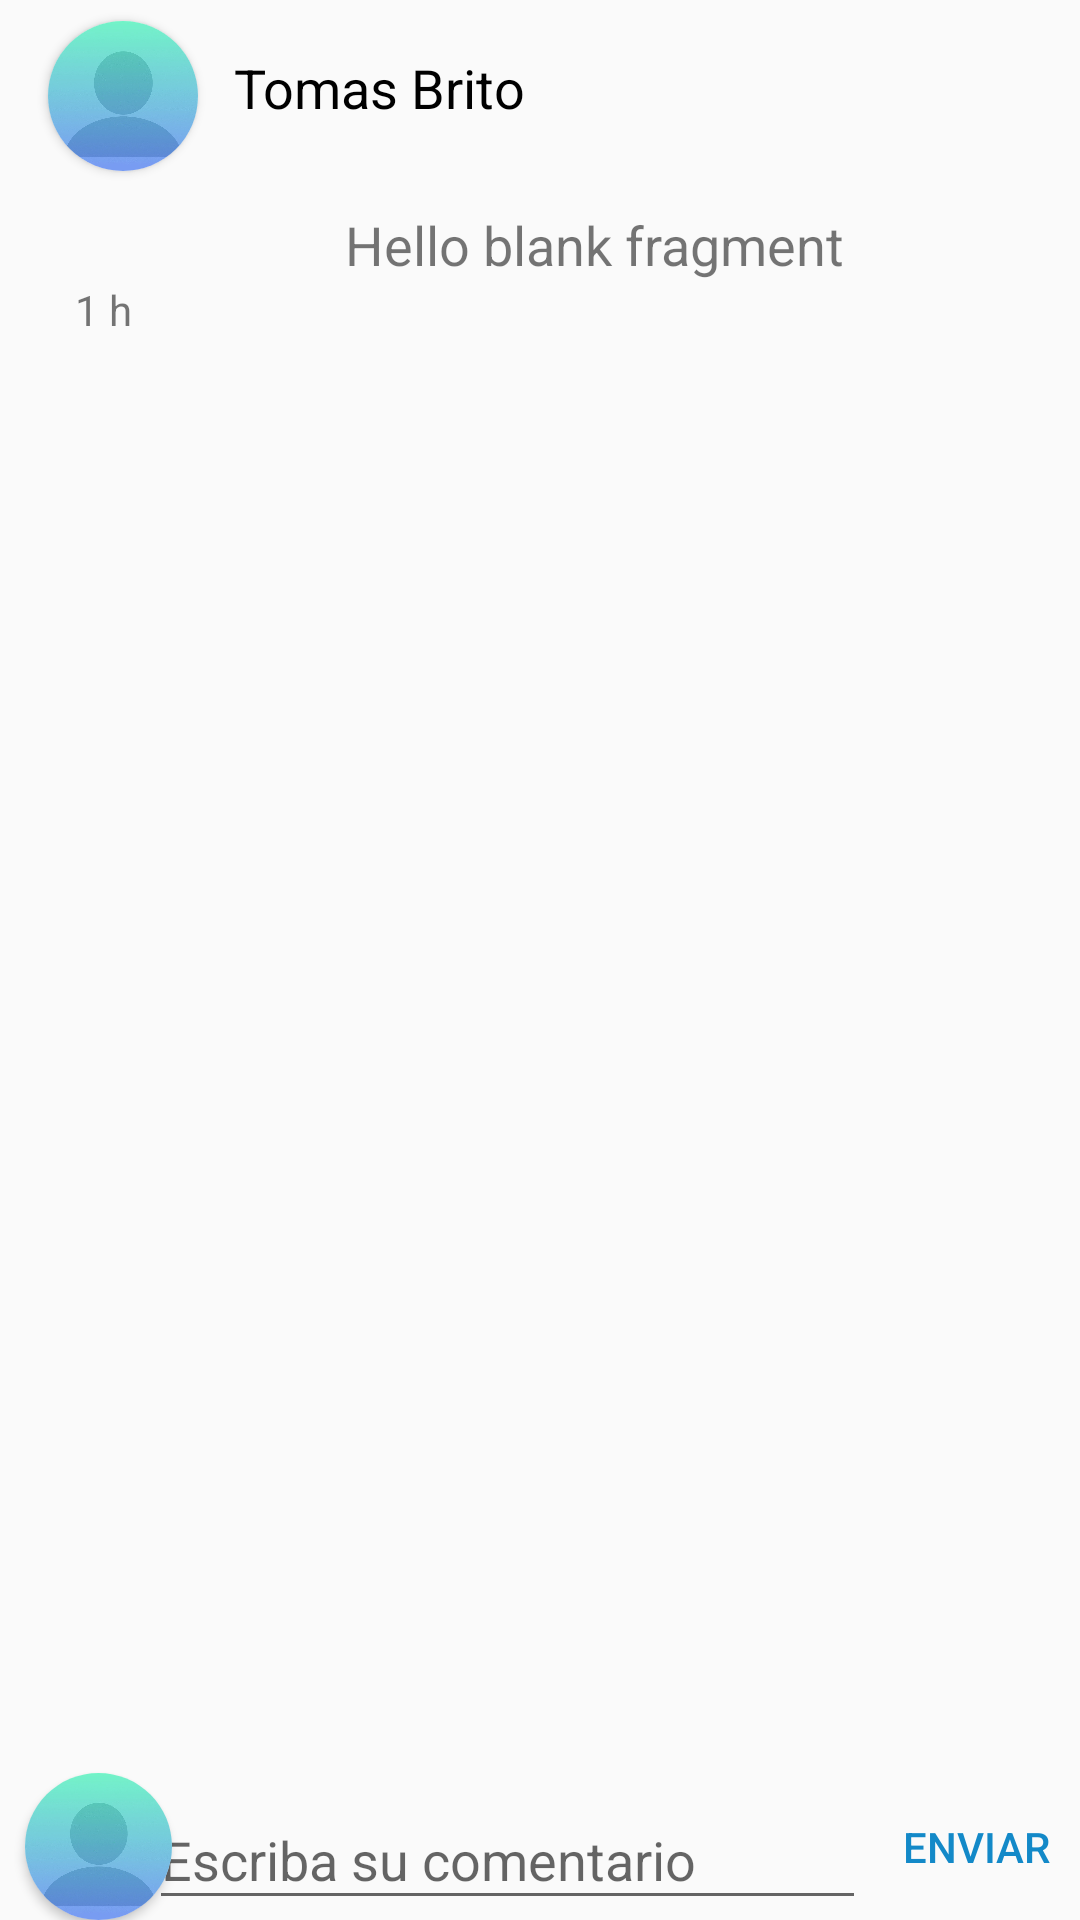

Named icons in this screenshot (1080 x 1920) and their centers, [x,y]:
blank profile: [123,96], [98,1846]
